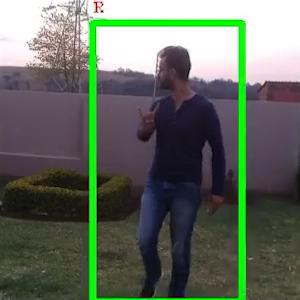takeoff-hand: (128, 96, 161, 132)
